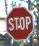stopsign: (7, 7, 34, 40)
